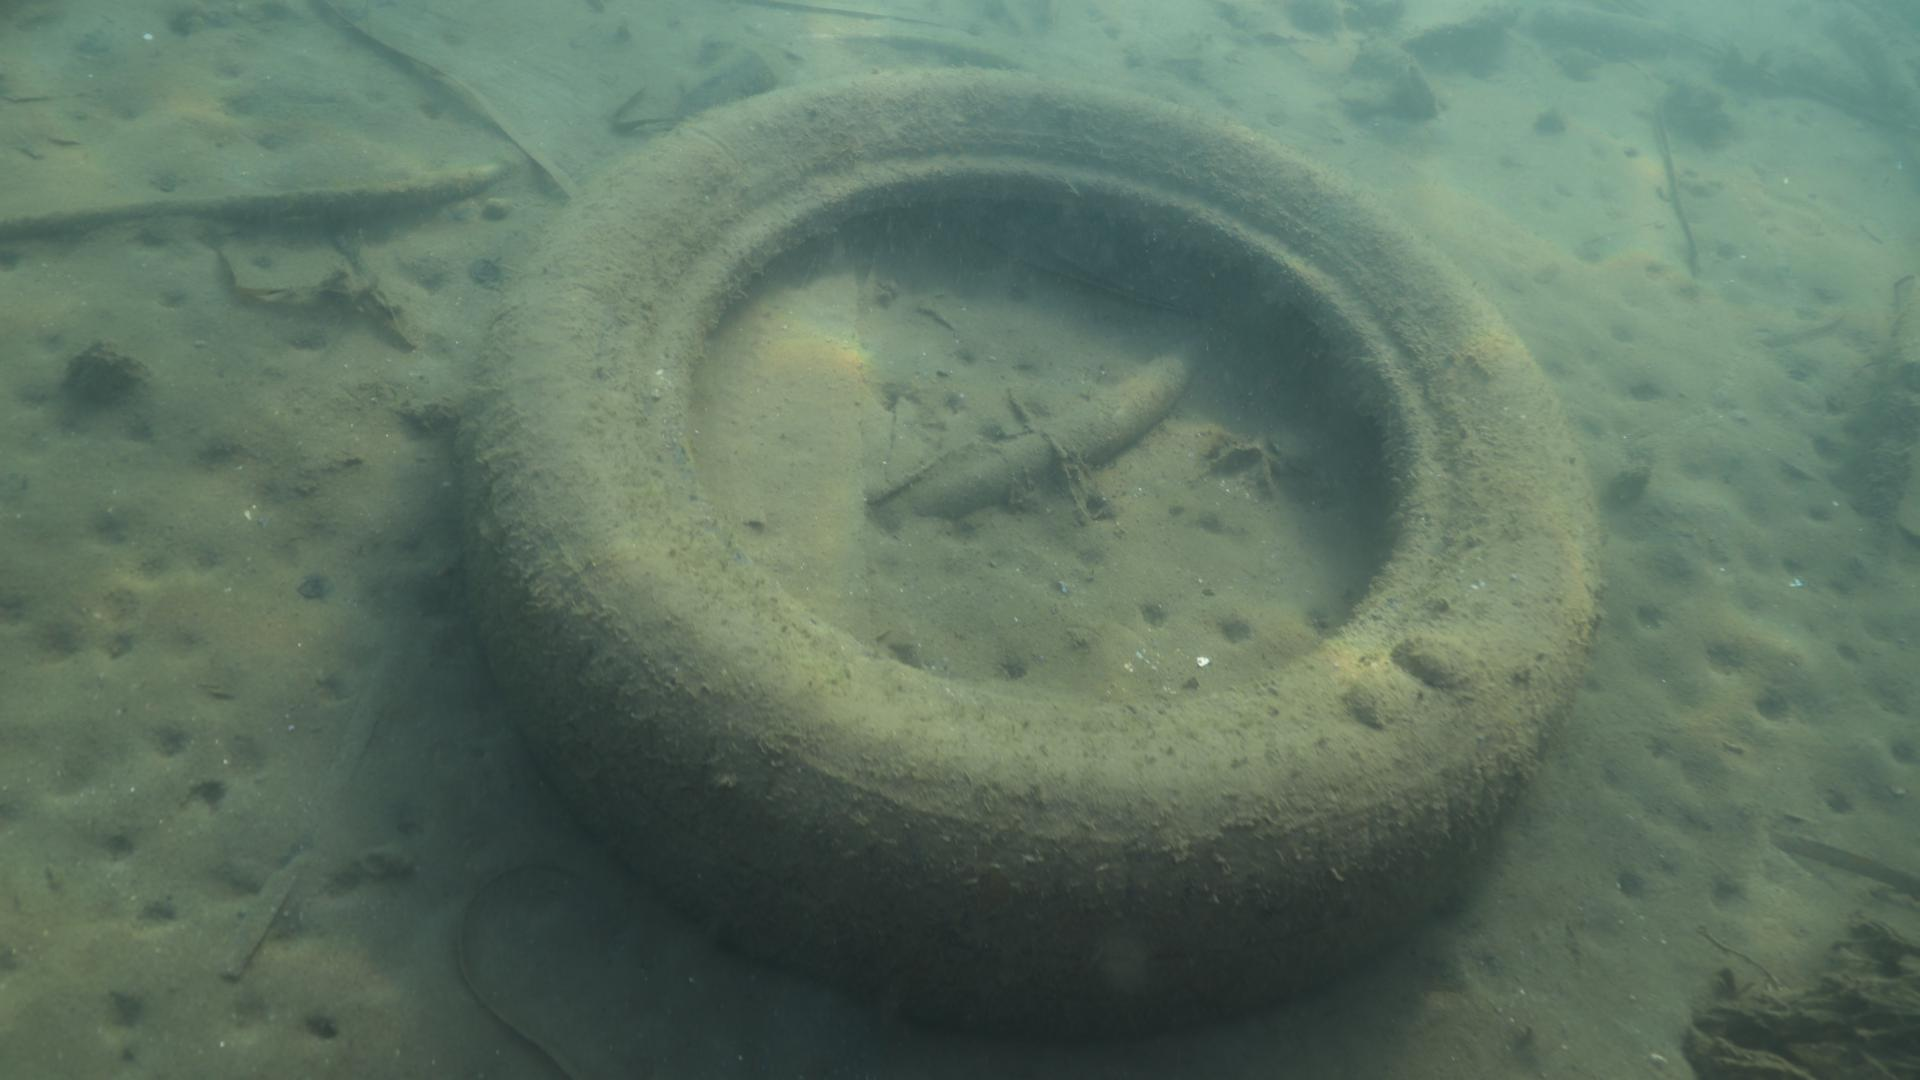tire: (447, 65, 1604, 1048)
